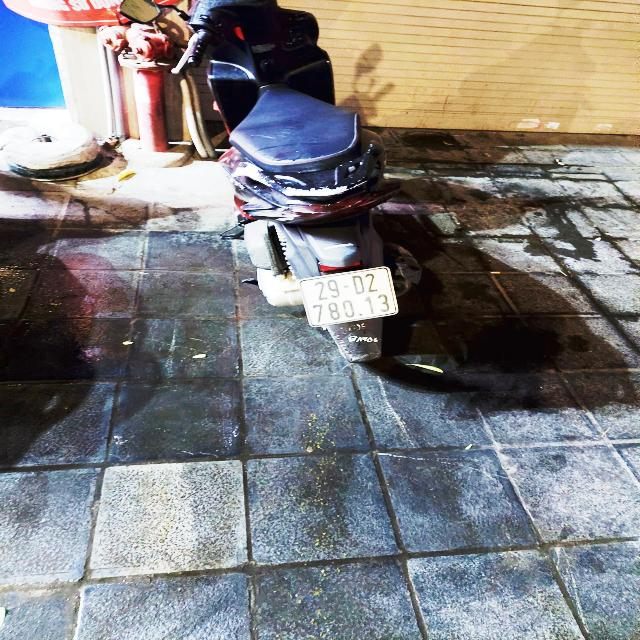license_plate: (294, 264, 404, 332)
